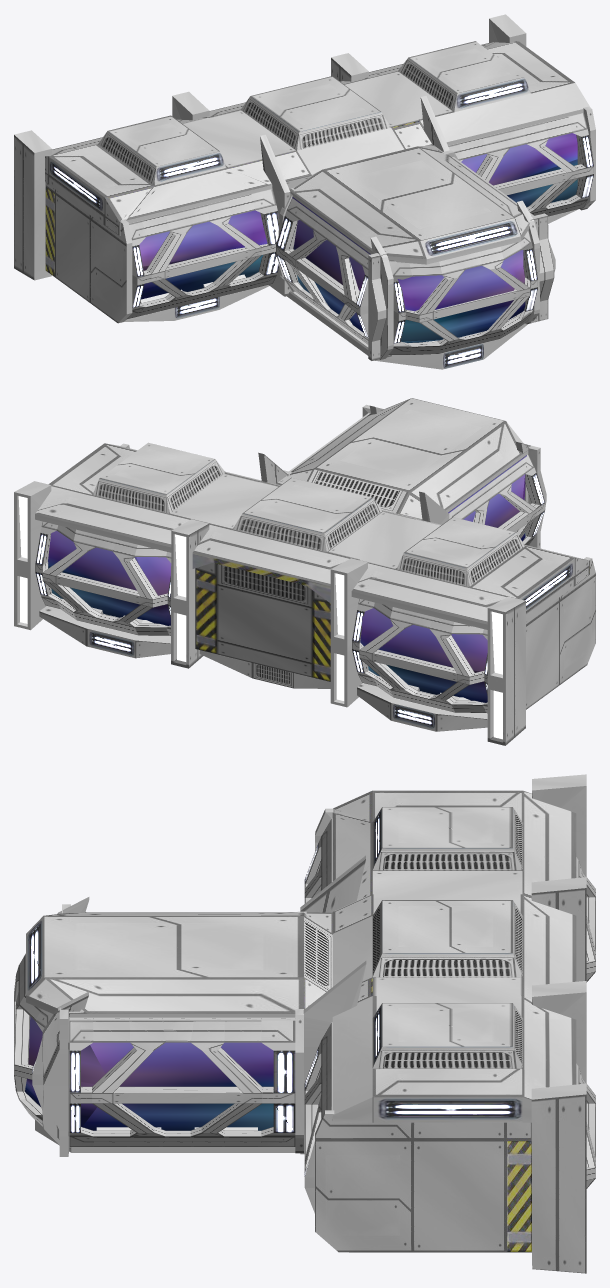
File: cristal_bot_novo_js.glb
The picture shows the model from 3 angles, top to bottom: view 1: azimuth 30°, elevation 25°; view 2: azimuth 150°, elevation 25°; view 3: azimuth 270°, elevation 25°; orthographic projection. The views are drawn at different scales.
Parts seen in each view (by area): view 1: TetoNave, paredeNave1, chao, paredeNave2, ChaoNave; view 2: TetoNave, paredeNave1, PortaNave, chao, ChaoNave, paredeNave2; view 3: TetoNave, paredeNave1, paredeNave2, chao, ChaoNave.
Boxes of the visible parts, x1,y1,x2,y2 form: TetoNave: (45,41,590,264); paredeNave1: (14,14,595,359); chao: (139,133,577,342); paredeNave2: (276,150,555,360); ChaoNave: (124,209,578,369); TetoNave: (35,398,589,629); paredeNave1: (14,405,595,745); PortaNave: (195,563,330,681); chao: (48,455,526,702); ChaoNave: (39,606,487,731); paredeNave2: (283,404,546,548); TetoNave: (26,790,576,1122); paredeNave1: (14,774,595,1273); paredeNave2: (43,904,306,1156); chao: (25,1016,318,1130); ChaoNave: (35,1120,531,1252).
Bounding box in the file's own units: 54.44 × 16.62 × 41.78.
Materials: 2 (2 with a texture image).
